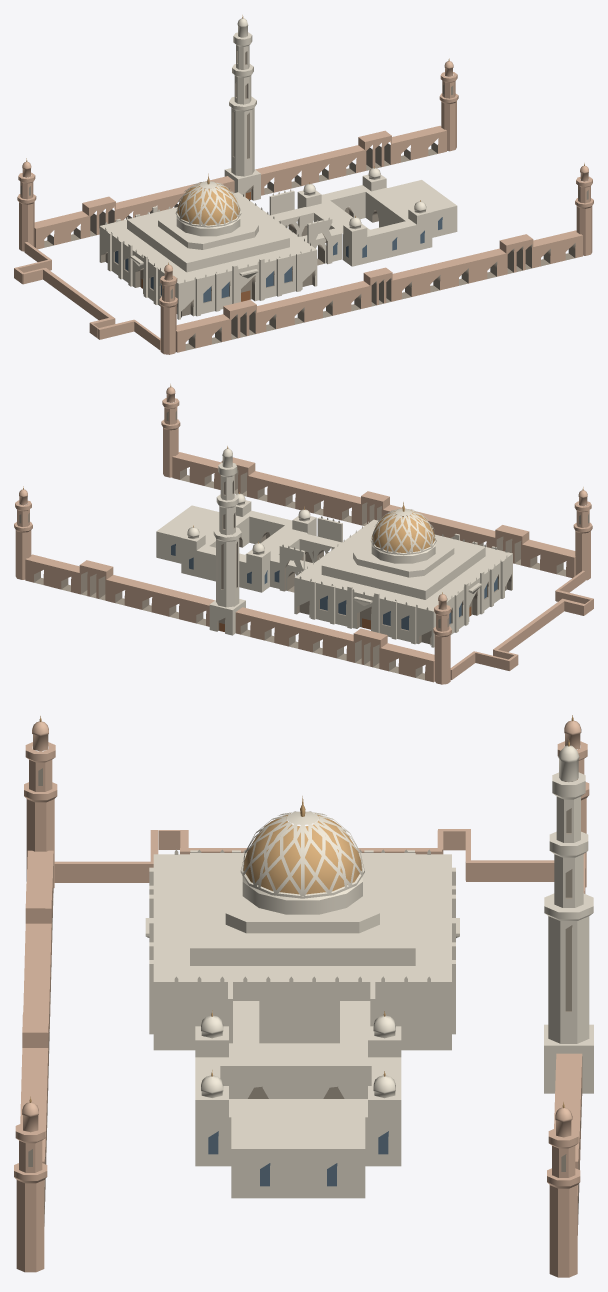
Rendered from muscat-sultan-qaboos-grand-mosque.glb.
3 views of the same model, one above another, from view 1: azimuth 30°, elevation 25°; view 2: azimuth 150°, elevation 25°; view 3: azimuth 270°, elevation 25° (orthographic). The views are drawn at different scales.
Parts seen in each view (by area): view 1: Sultan Qaboos Grand Mosque; view 2: Sultan Qaboos Grand Mosque; view 3: Sultan Qaboos Grand Mosque.
Part boxes in pixels (left/top/right/bottom): Sultan Qaboos Grand Mosque: left=14, top=15, right=593, bottom=354; Sultan Qaboos Grand Mosque: left=14, top=384, right=593, bottom=684; Sultan Qaboos Grand Mosque: left=14, top=715, right=593, bottom=1277.
Bounding box in the file's own units: 244 × 91.19 × 139.
